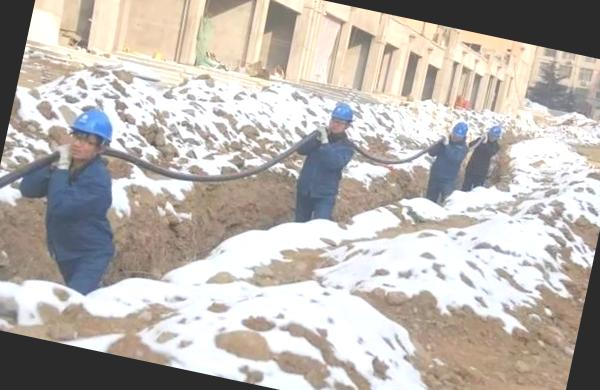helmet: (64, 101, 120, 147), (328, 100, 357, 124), (449, 120, 472, 142)
person: (14, 96, 146, 298), (280, 92, 366, 236), (421, 108, 476, 206)
